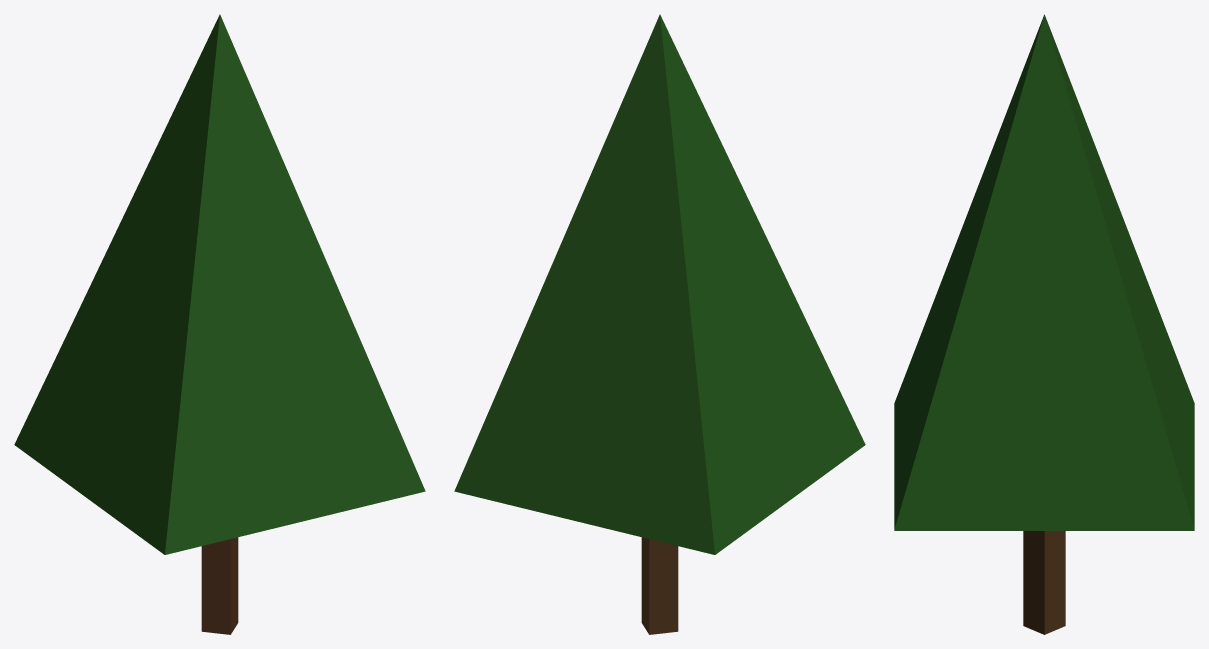
Rendered from tree_lod2.glb.
3 views of the same model, side by side, from view 1: azimuth 30°, elevation 25°; view 2: azimuth 150°, elevation 25°; view 3: azimuth 270°, elevation 25° (orthographic).
Parts seen in each view (by area): view 1: placeholder; view 2: placeholder; view 3: placeholder.
Boxes of the visible parts, x1=… form: placeholder: x1=14, y1=14, x2=425, y2=634; placeholder: x1=454, y1=14, x2=865, y2=634; placeholder: x1=894, y1=14, x2=1194, y2=634.
Size of the model in its own units: 2.4 by 5.4 by 2.4.
